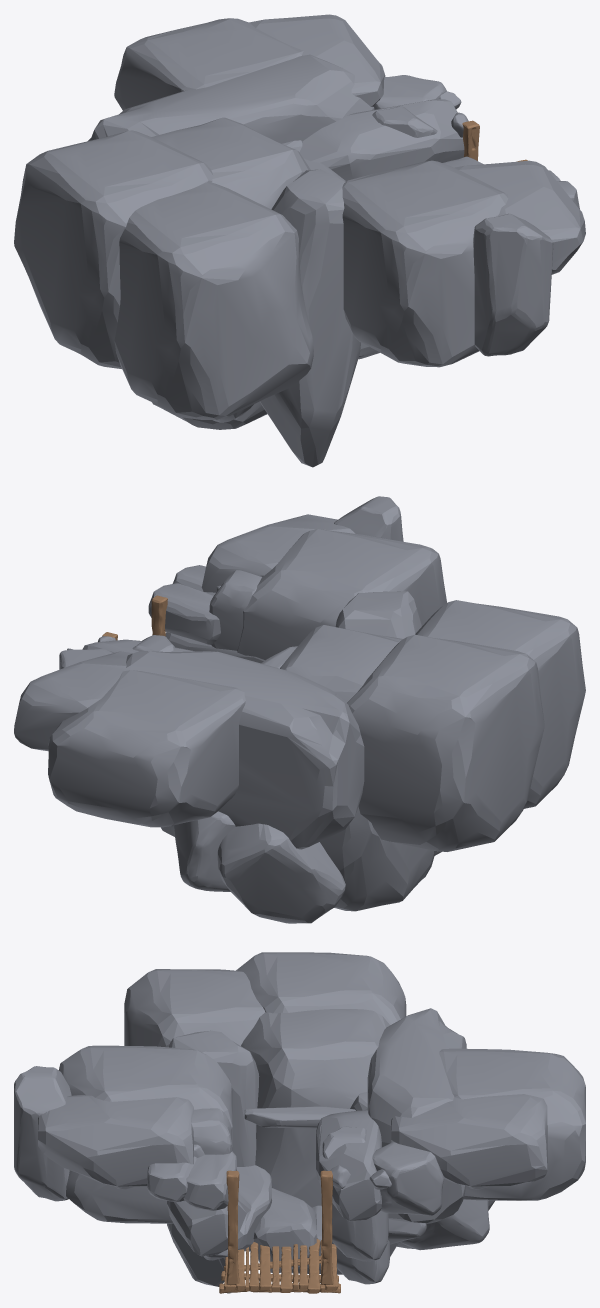
File: Cage.fbx
3 renders of one model, top to bottom at view 1: azimuth 30°, elevation 25°; view 2: azimuth 150°, elevation 25°; view 3: azimuth 270°, elevation 25°, orthographic. The views are drawn at different scales.
Parts seen in each view (by area): view 1: Rock_space.030_44; view 2: Rock_space.030_44; view 3: Rock_space.030_44.
Part boxes in pixels (x1,y1,x2,y2): Rock_space.030_44: (14, 14, 585, 467); Rock_space.030_44: (14, 496, 585, 923); Rock_space.030_44: (14, 952, 585, 1293).
Bounding box in the file's own units: 263 × 166 × 338.
